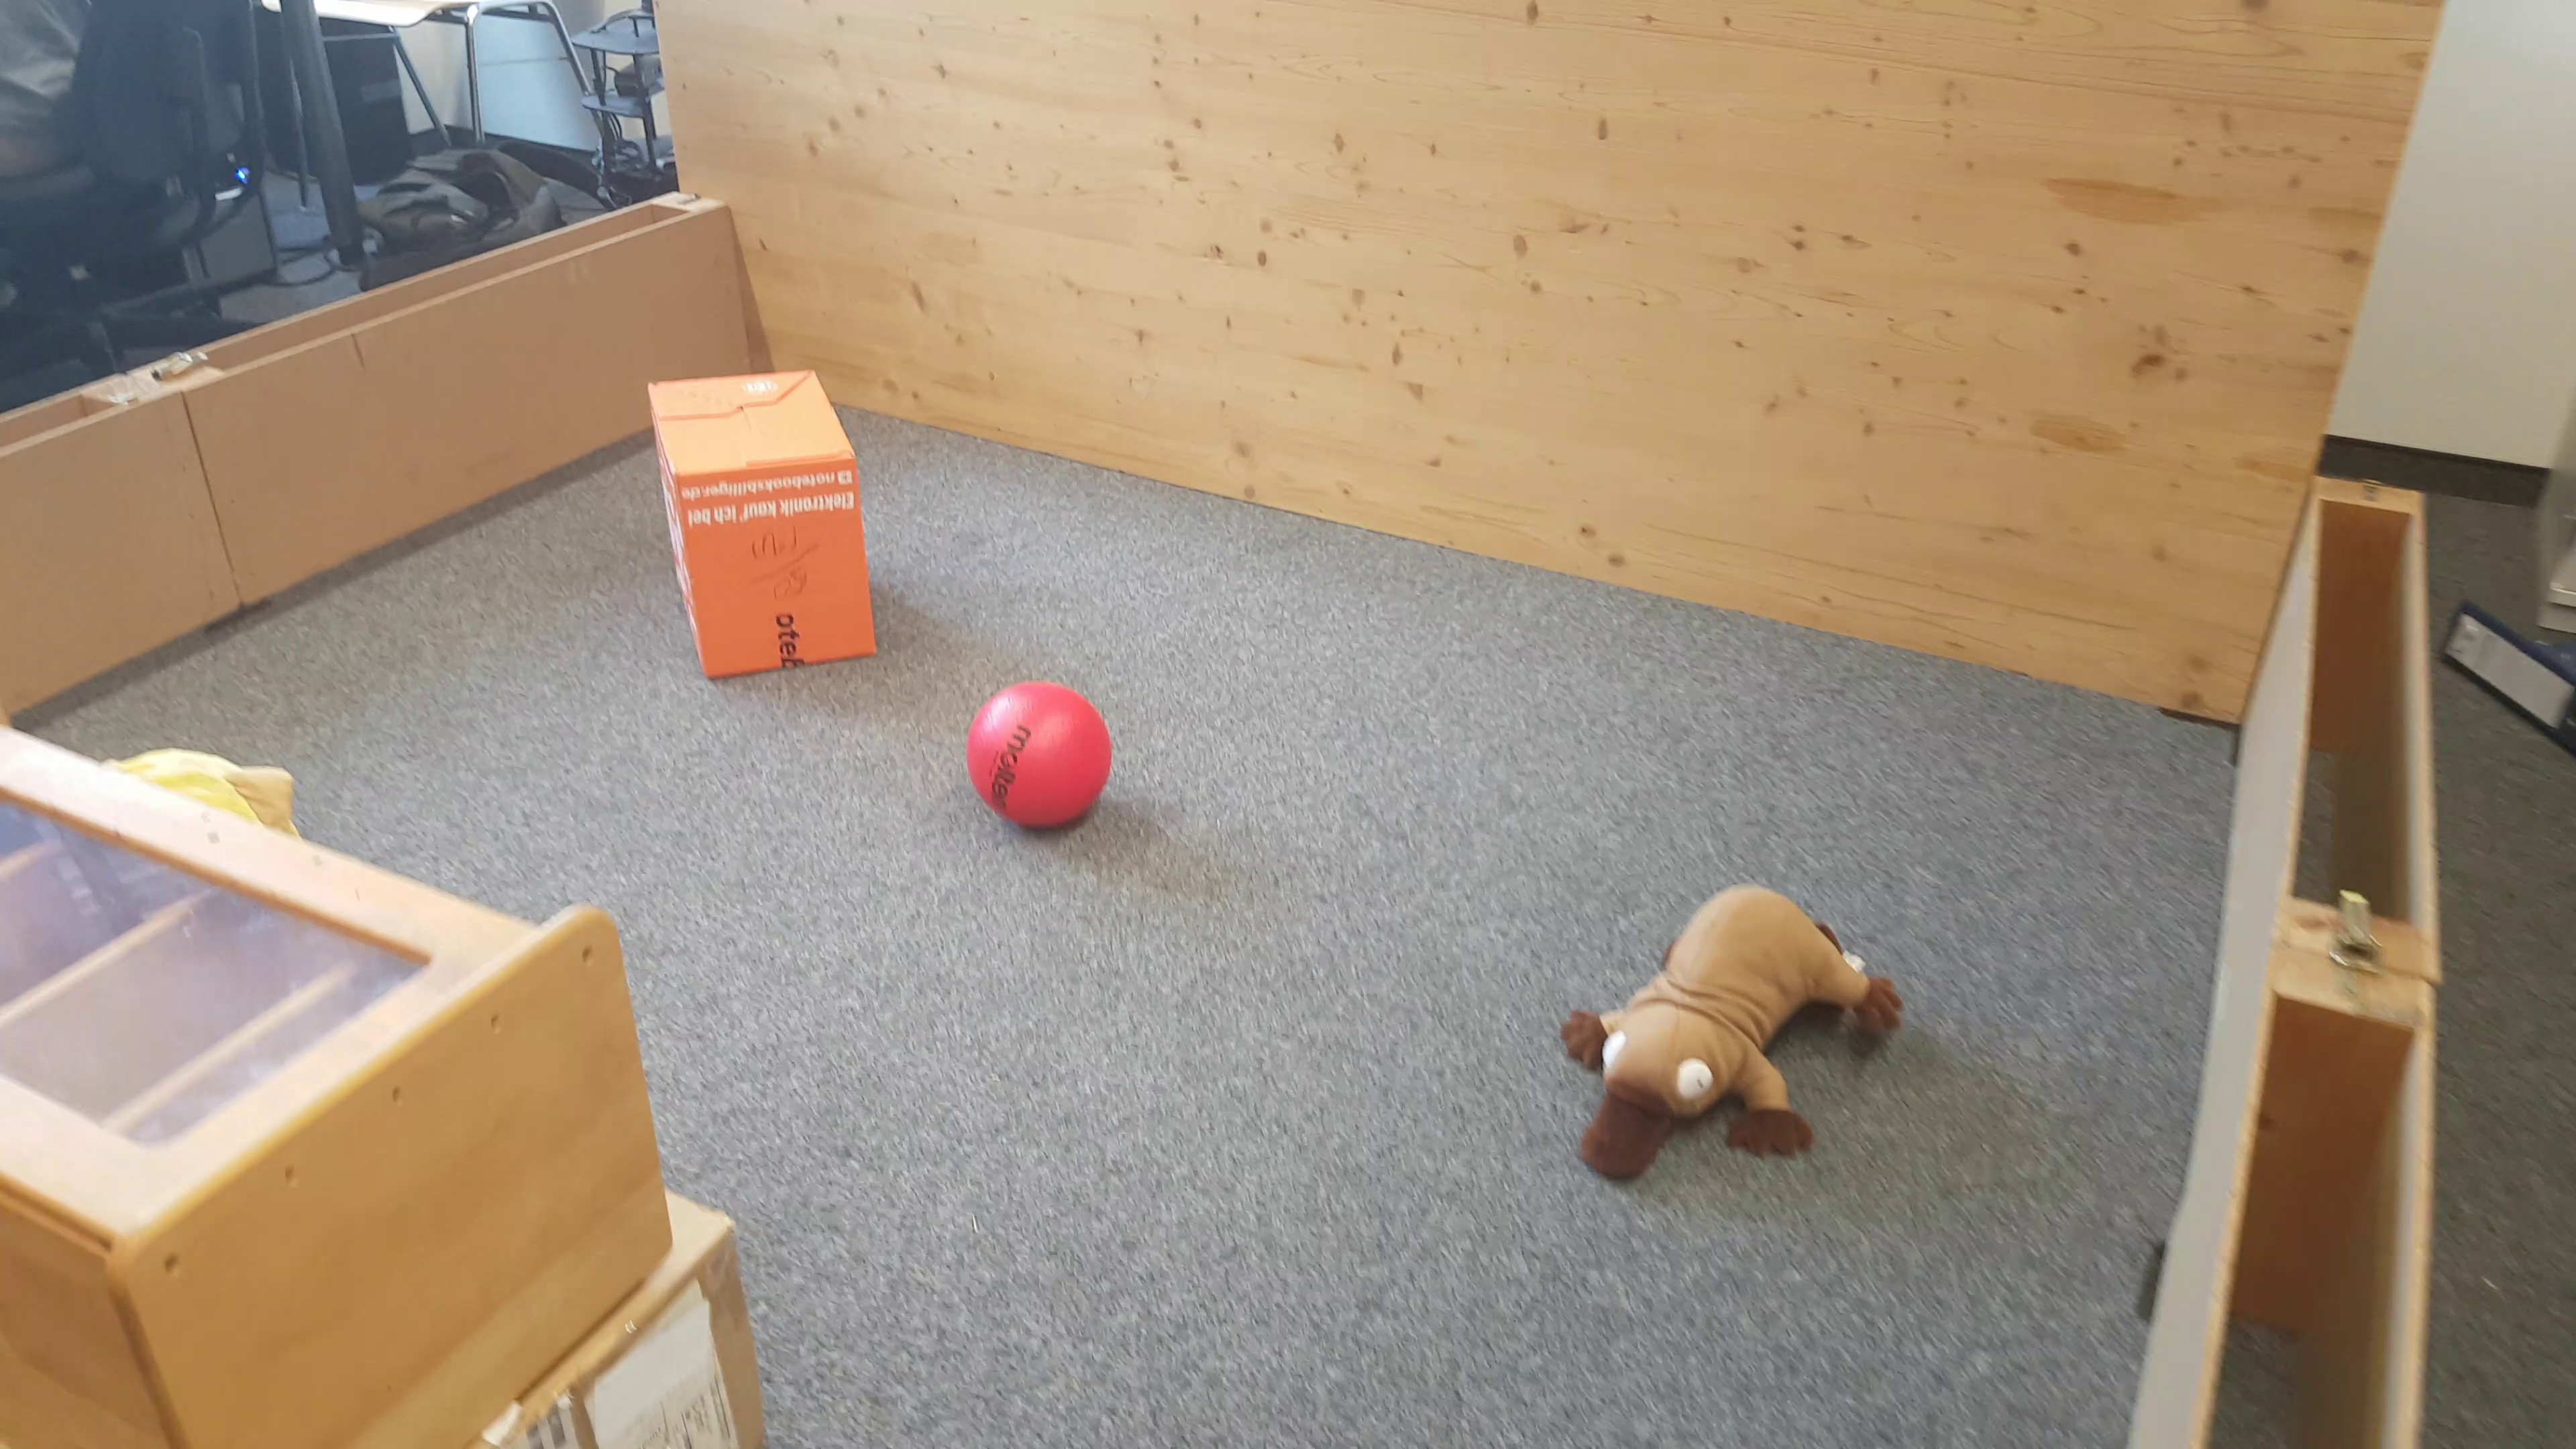grasp: (1562, 879, 1902, 1196)
kick: (962, 678, 1120, 837)
push: (644, 372, 885, 688)
